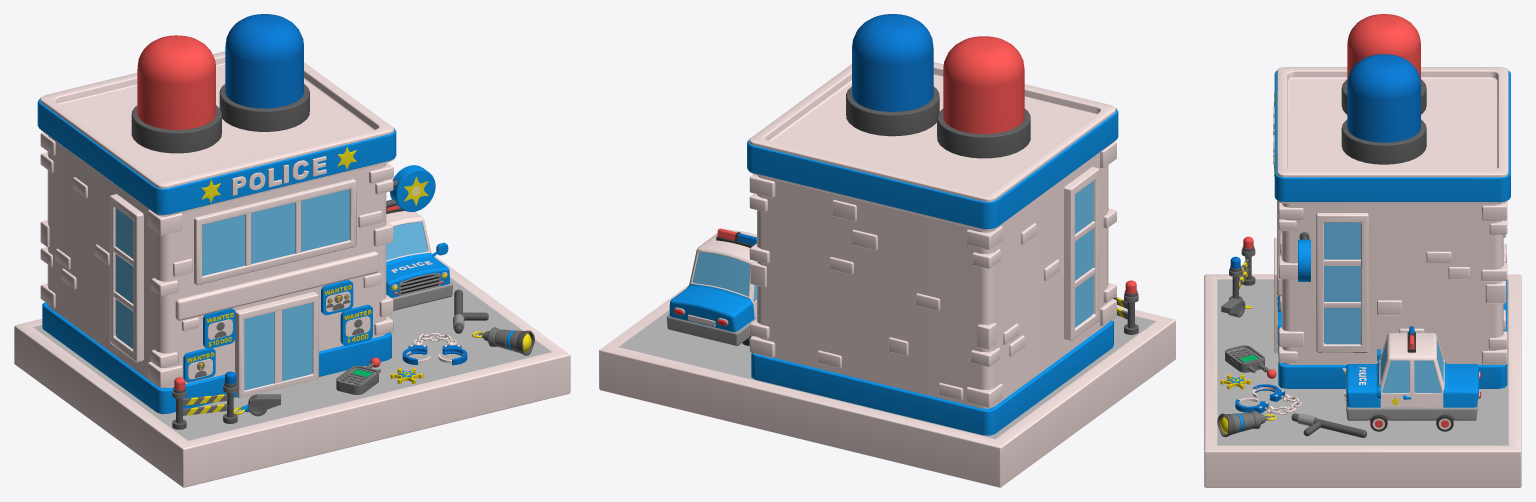
File: Public_Island_16.glb
3 views of the same model, side by side, from view 1: azimuth 30°, elevation 25°; view 2: azimuth 150°, elevation 25°; view 3: azimuth 270°, elevation 25° (orthographic). The views are drawn at different scales.
Visible parts, largest first — view 1: Public_16_Police_Office_1, Public_16_Base_1, Public_16_Police_Light_1, Public_16_Police_Light_2, Public_16_Police_Car_1, Public_16_Police_Line__1, Public_16_Police_Sign_1, Public_16_Poster_Wanted_4, Public_16_Poster_Wanted_3, Public_16_Hand_Cuffs_1, Public_16_Walkie_Talkie_1, Public_16_Police_Flashlight_1 (+4 smaller); view 2: Public_16_Police_Office_1, Public_16_Base_1, Public_16_Police_Light_1, Public_16_Police_Light_2, Public_16_Police_Car_1, Public_16_Police_Line__1; view 3: Public_16_Police_Office_1, Public_16_Base_1, Public_16_Police_Car_1, Public_16_Police_Light_2, Public_16_Police_Light_1, Public_16_Hand_Cuffs_1, Public_16_Police_Line__1, Public_16_Walkie_Talkie_1, Public_16_Police_Flashlight_1, Public_16_Police_Baton_1, Public_16_Police_Sign_1, Public_16_Police_Whistle_1.
Part boxes in pixels (x1=…): Public_16_Police_Office_1: x1=37, y1=51, x2=396, y2=414; Public_16_Base_1: x1=14, y1=253, x2=570, y2=487; Public_16_Police_Light_1: x1=131, y1=35, x2=221, y2=153; Public_16_Police_Light_2: x1=219, y1=14, x2=309, y2=131; Public_16_Police_Car_1: x1=386, y1=205, x2=452, y2=310; Public_16_Police_Line__1: x1=172, y1=371, x2=237, y2=429; Public_16_Police_Sign_1: x1=386, y1=165, x2=435, y2=211; Public_16_Poster_Wanted_4: x1=340, y1=304, x2=372, y2=345; Public_16_Poster_Wanted_3: x1=203, y1=308, x2=235, y2=348; Public_16_Hand_Cuffs_1: x1=402, y1=333, x2=467, y2=365; Public_16_Walkie_Talkie_1: x1=336, y1=357, x2=380, y2=394; Public_16_Police_Flashlight_1: x1=472, y1=327, x2=534, y2=355; Public_16_Police_Office_1: x1=747, y1=62, x2=1118, y2=435; Public_16_Base_1: x1=599, y1=285, x2=1175, y2=487; Public_16_Police_Light_1: x1=937, y1=36, x2=1030, y2=158; Public_16_Police_Light_2: x1=846, y1=14, x2=939, y2=136; Public_16_Police_Car_1: x1=667, y1=228, x2=756, y2=346; Public_16_Police_Line__1: x1=1113, y1=280, x2=1138, y2=334; Public_16_Police_Office_1: x1=1273, y1=67, x2=1510, y2=388; Public_16_Base_1: x1=1204, y1=274, x2=1521, y2=487; Public_16_Police_Car_1: x1=1342, y1=326, x2=1481, y2=431; Public_16_Police_Light_2: x1=1341, y1=54, x2=1426, y2=164; Public_16_Police_Light_1: x1=1341, y1=14, x2=1426, y2=114; Public_16_Hand_Cuffs_1: x1=1235, y1=384, x2=1301, y2=414; Public_16_Police_Line__1: x1=1229, y1=236, x2=1255, y2=300; Public_16_Walkie_Talkie_1: x1=1225, y1=345, x2=1276, y2=378; Public_16_Police_Flashlight_1: x1=1217, y1=410, x2=1276, y2=436; Public_16_Police_Baton_1: x1=1291, y1=413, x2=1366, y2=437; Public_16_Police_Sign_1: x1=1298, y1=232, x2=1310, y2=281; Public_16_Police_Whistle_1: x1=1221, y1=298, x2=1251, y2=317.
Bounding box in the file's own units: 12.93 × 11.24 × 9.77.
Materials: 17 (17 with a texture image).
